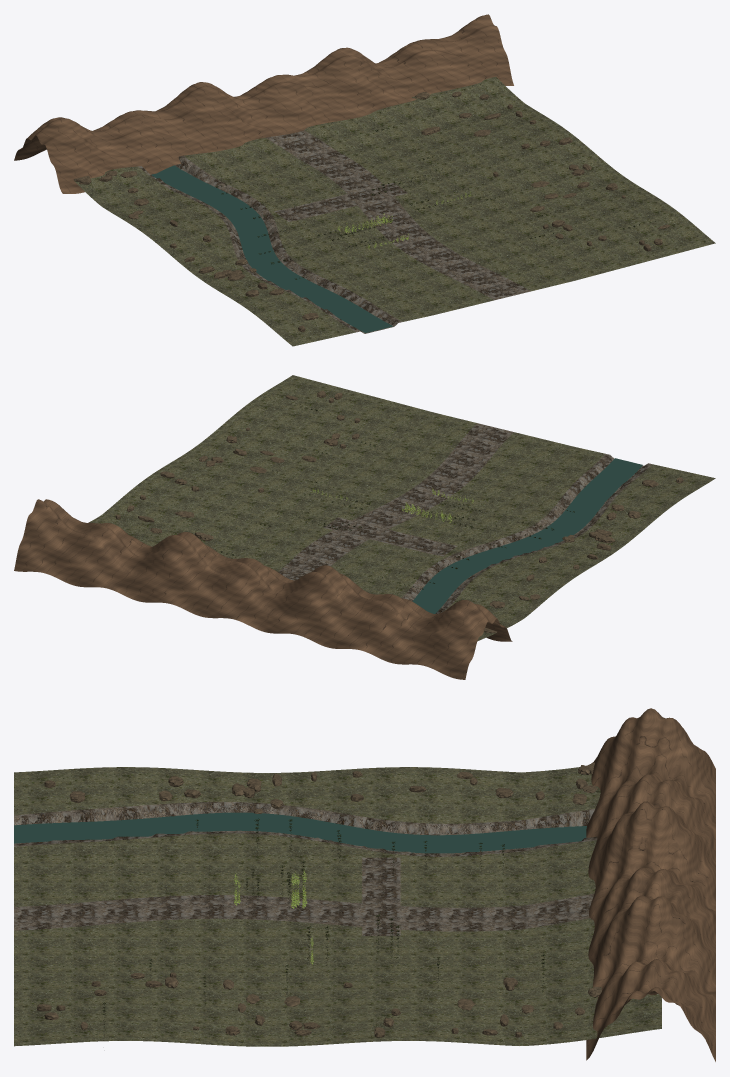
The model's file is asset-environment.glb.
The picture shows the model from 3 angles, top to bottom: view 1: azimuth 30°, elevation 25°; view 2: azimuth 150°, elevation 25°; view 3: azimuth 270°, elevation 25°; orthographic projection. The views are drawn at different scales.
Parts seen in each view (by area): view 1: Illustrative valley terrain, Distant illustrative mountain ridge, Illustrative river ribbon; view 2: Illustrative valley terrain, Distant illustrative mountain ridge, Illustrative river ribbon; view 3: Illustrative valley terrain, Distant illustrative mountain ridge, Illustrative river ribbon.
Boxes of the visible parts, left/top/right/bottom form: Illustrative valley terrain: left=74, top=77, right=715, bottom=346; Distant illustrative mountain ridge: left=14, top=14, right=513, bottom=193; Illustrative river ribbon: left=151, top=165, right=393, bottom=333; Illustrative valley terrain: left=89, top=375, right=715, bottom=641; Distant illustrative mountain ridge: left=14, top=499, right=512, bottom=679; Illustrative river ribbon: left=412, top=458, right=642, bottom=613; Illustrative valley terrain: left=14, top=767, right=661, bottom=1046; Distant illustrative mountain ridge: left=586, top=708, right=715, bottom=1061; Illustrative river ribbon: left=14, top=812, right=586, bottom=853.
Size of what is drawn, in the model's own units: 64 by 7.74 by 65.
6 materials, 5 textured.
